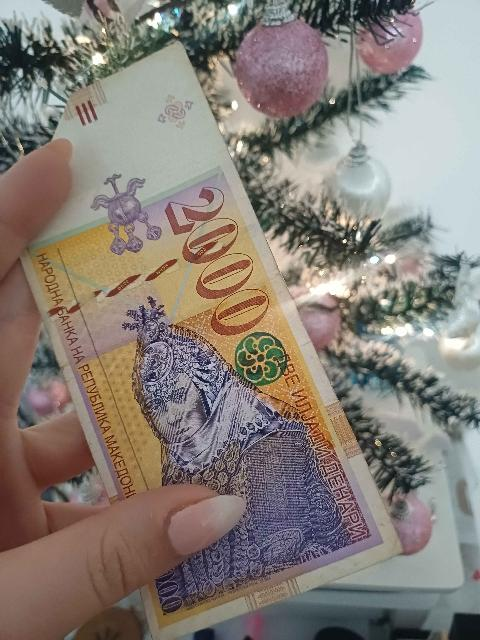note: (24, 46, 397, 637)
